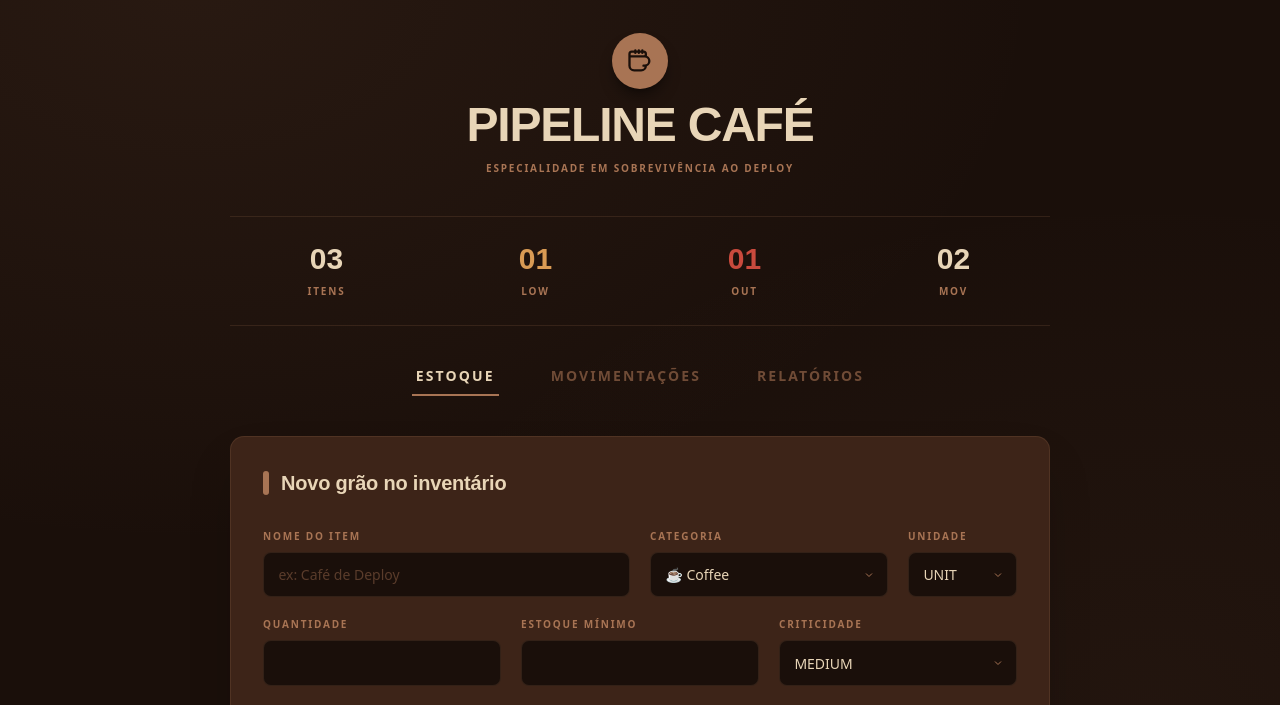
Test: PipelineCafePage › formulário de item › exibe erro HttpError ao falhar ao salvar
Type "Falha" into the field with placeholder "ex: Café de Deploy". click: [446, 575]
box: [263,552,630,597]
(page scrolled)
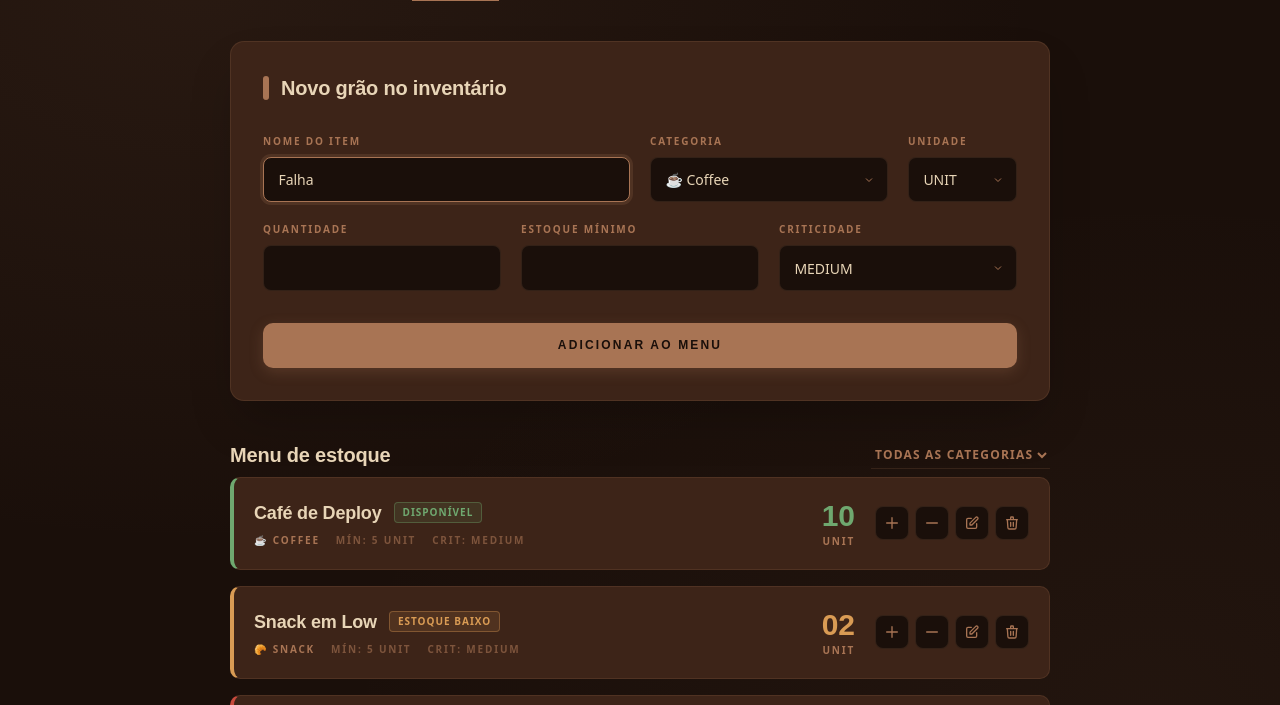
Click the button "ADICIONAR AO MENU". click: [640, 345]
box: [263,323,1017,368]
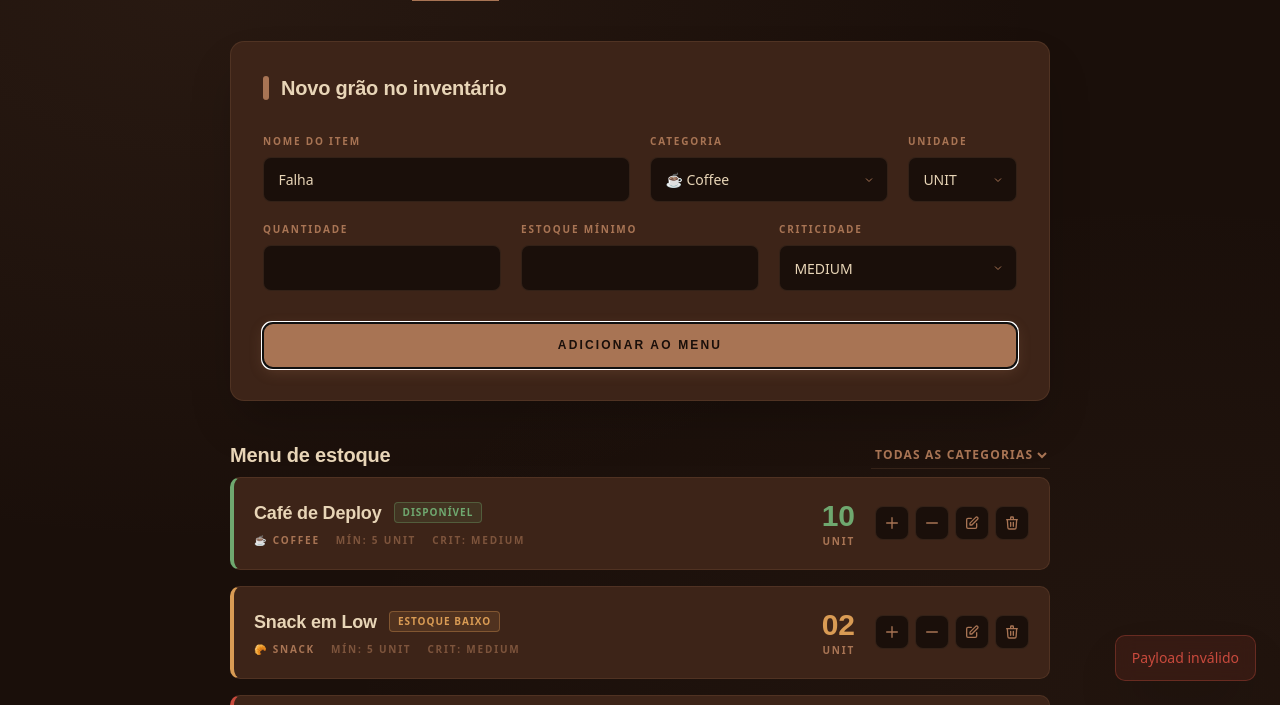
Check: the text "Payload inválido" is shown, box [1115,635,1256,681]
